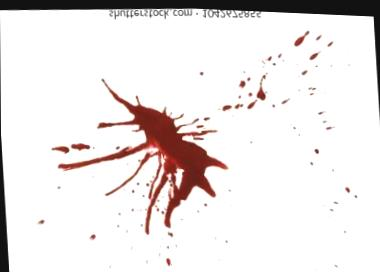Fire: (57, 78, 228, 231), (248, 69, 268, 107), (342, 180, 363, 205), (294, 27, 310, 42), (289, 116, 303, 133), (323, 199, 339, 209), (167, 230, 177, 246), (70, 142, 89, 150), (341, 222, 352, 234), (266, 53, 279, 63), (51, 145, 67, 152), (310, 47, 321, 56), (307, 83, 316, 91), (281, 93, 290, 100), (299, 66, 308, 73), (88, 233, 95, 241), (197, 118, 202, 129), (36, 218, 45, 224), (165, 257, 172, 264), (315, 31, 323, 37), (223, 102, 230, 108), (328, 37, 335, 43), (277, 49, 283, 56), (326, 122, 336, 126), (318, 107, 326, 111), (235, 101, 243, 105), (241, 78, 245, 85), (203, 115, 210, 119), (314, 146, 320, 150), (322, 117, 328, 120), (203, 201, 207, 204), (200, 69, 202, 73)
